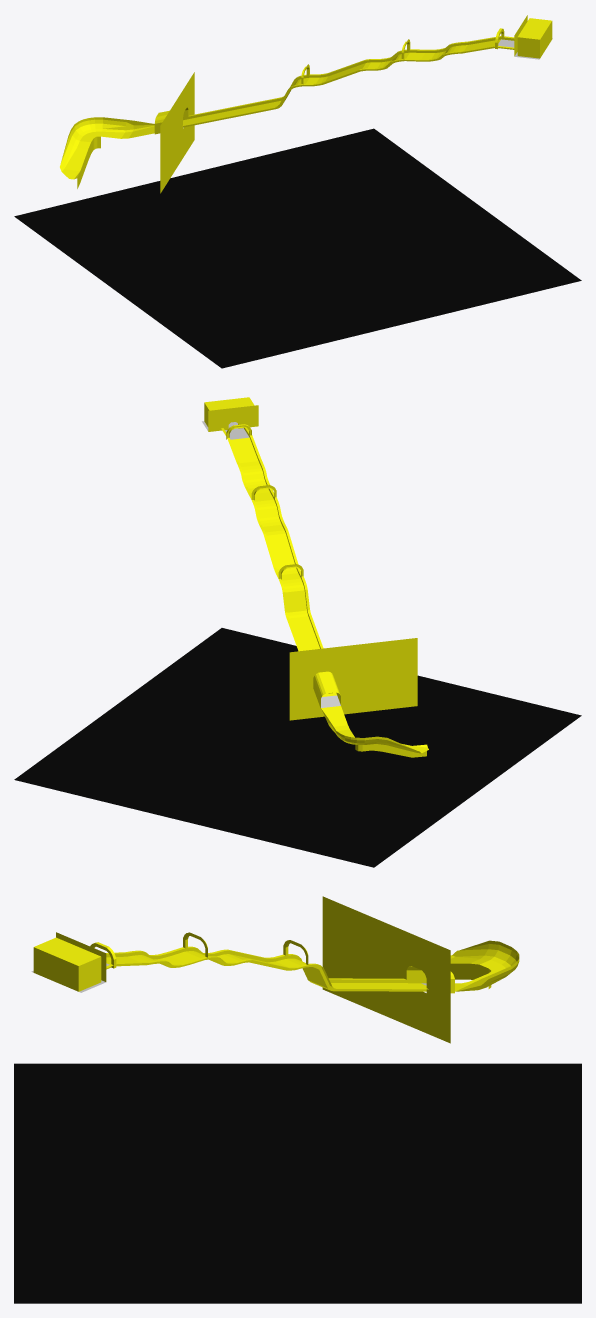
File: ttm_segment7.0x2BBD0.collision.obj
The picture shows the model from 3 angles, top to bottom: view 1: azimuth 30°, elevation 25°; view 2: azimuth 150°, elevation 25°; view 3: azimuth 270°, elevation 25°; orthographic projection. The views are drawn at different scales.
Visible parts, largest first — view 1: ttm_segment7_2BBD0_deathfloor, ttm_segment7_2BBD0_normal; view 2: ttm_segment7_2BBD0_deathfloor, ttm_segment7_2BBD0_normal; view 3: ttm_segment7_2BBD0_deathfloor, ttm_segment7_2BBD0_normal.
Boxes of the visible parts, x1,y1,x2,y2 form: ttm_segment7_2BBD0_deathfloor: [14, 128, 581, 368]; ttm_segment7_2BBD0_normal: [60, 15, 552, 193]; ttm_segment7_2BBD0_deathfloor: [14, 628, 581, 867]; ttm_segment7_2BBD0_normal: [204, 397, 428, 757]; ttm_segment7_2BBD0_deathfloor: [14, 1063, 581, 1303]; ttm_segment7_2BBD0_normal: [33, 896, 519, 1043].
Size of the model in its own units: 16 by 10.47 by 16.
